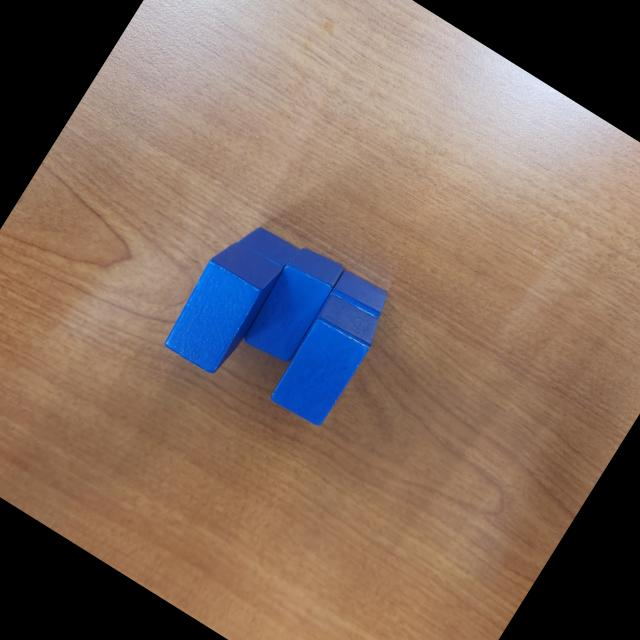blue: (154, 232, 286, 382), (263, 288, 386, 432), (238, 240, 348, 369), (301, 266, 394, 369), (236, 216, 301, 272)
